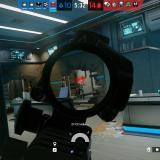Character: (76, 79, 88, 100)
Head: (78, 79, 82, 83)
